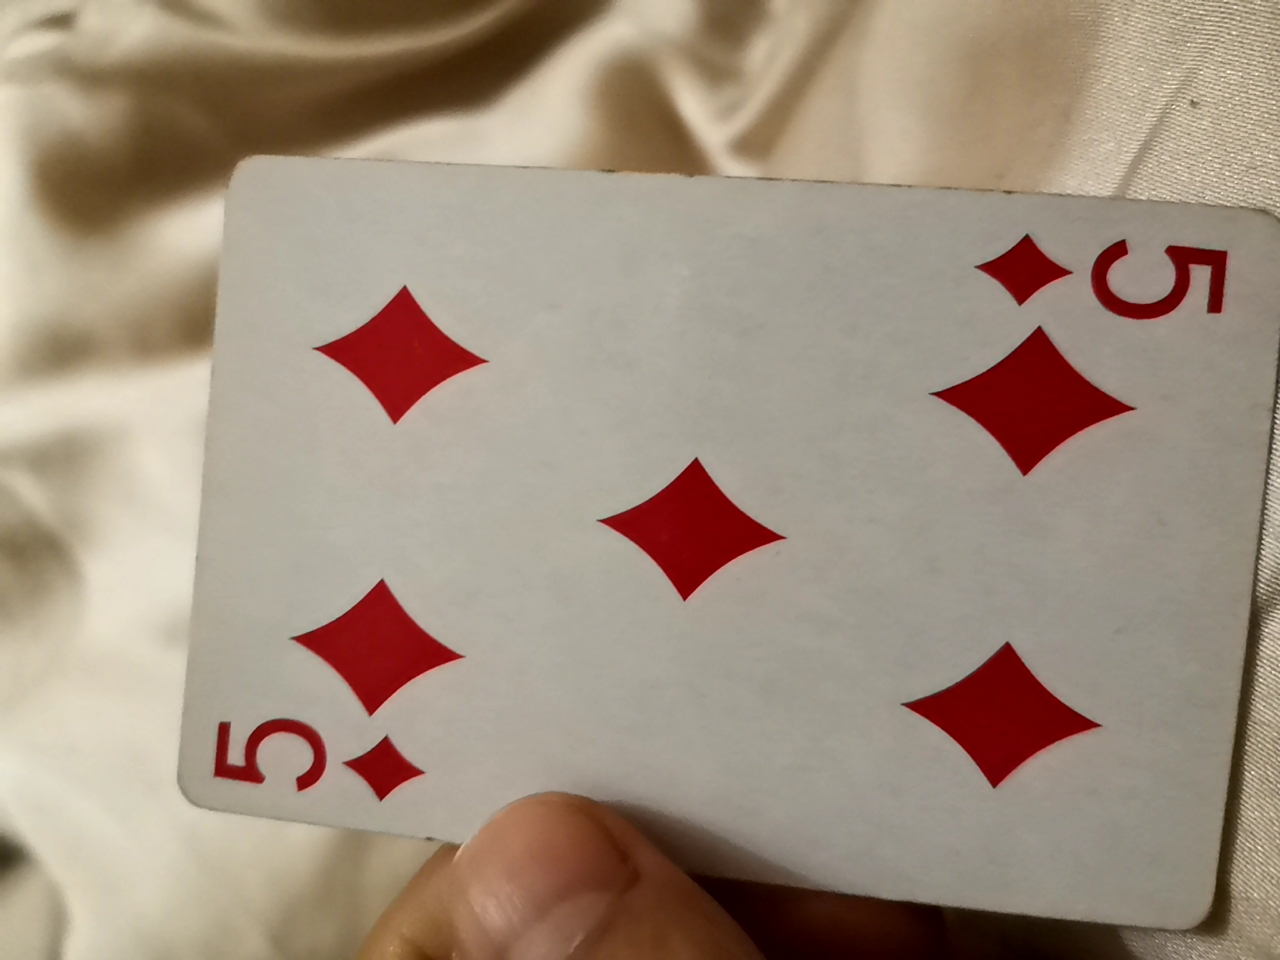fk 5: (165, 162, 1278, 952)
